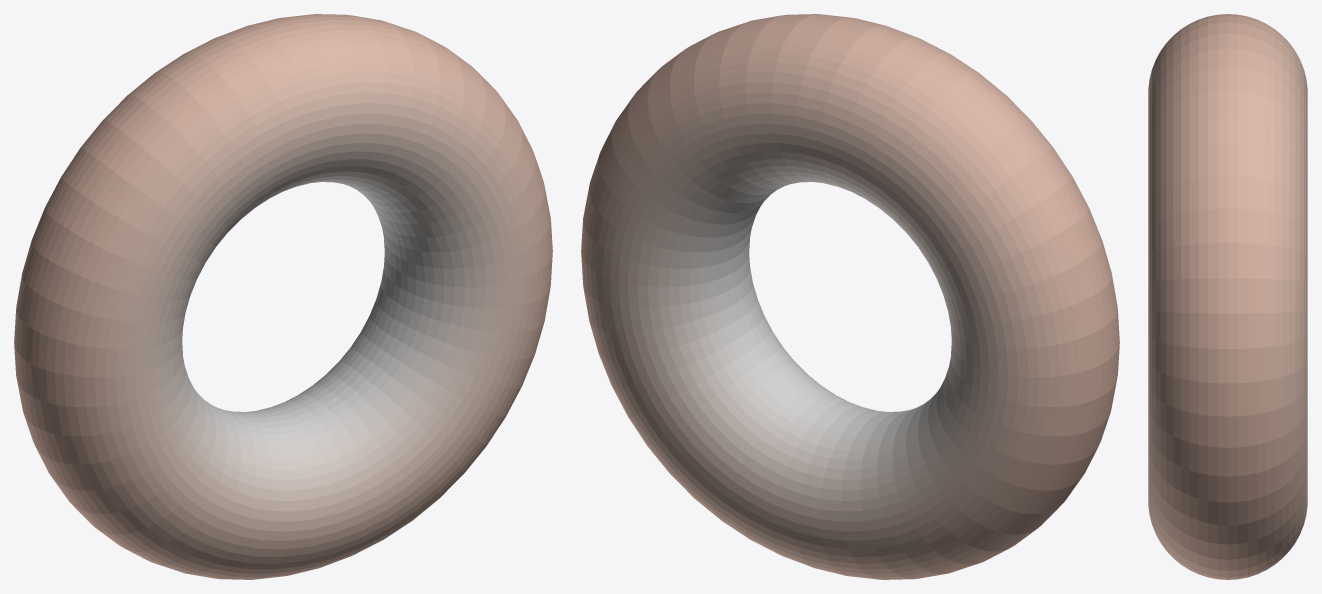
The picture shows the model from 3 angles, left to right: view 1: azimuth 30°, elevation 25°; view 2: azimuth 150°, elevation 25°; view 3: azimuth 270°, elevation 25°; orthographic projection. The views are drawn at different scales.
Visible parts, largest first — view 1: world; view 2: world; view 3: world.
Part boxes in pixels (<box>): world: <box>14,14,552,579</box>; world: <box>581,14,1119,579</box>; world: <box>1148,14,1307,579</box>.
Size of the model in its own units: 26 by 25.95 by 7.32.
